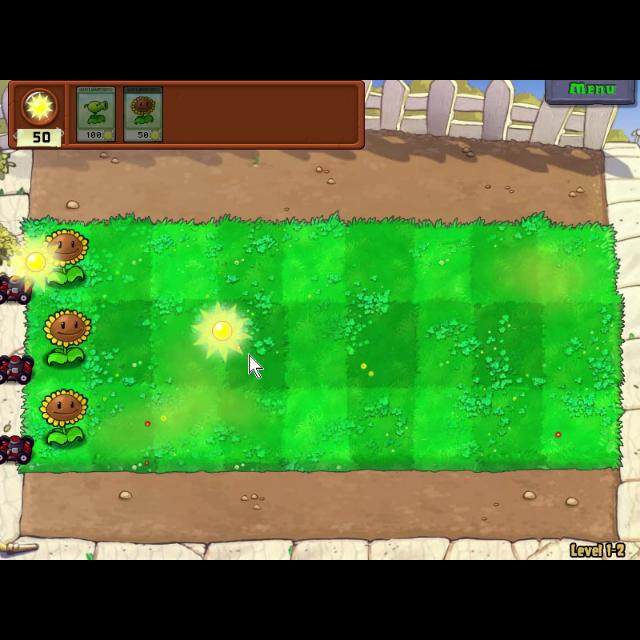Garden: (16, 217, 624, 478)
Menu Button: (543, 80, 637, 104)
Mower: (1, 345, 36, 389), (0, 429, 34, 467), (0, 270, 34, 306)
Peashooter: (74, 83, 116, 143)
Seed Panel: (8, 80, 368, 152)
Sun: (189, 302, 251, 363), (10, 240, 60, 286)
Sunflower: (122, 82, 166, 144)
Sunflower Seed: (40, 226, 90, 288), (39, 387, 89, 445), (42, 306, 88, 366)
